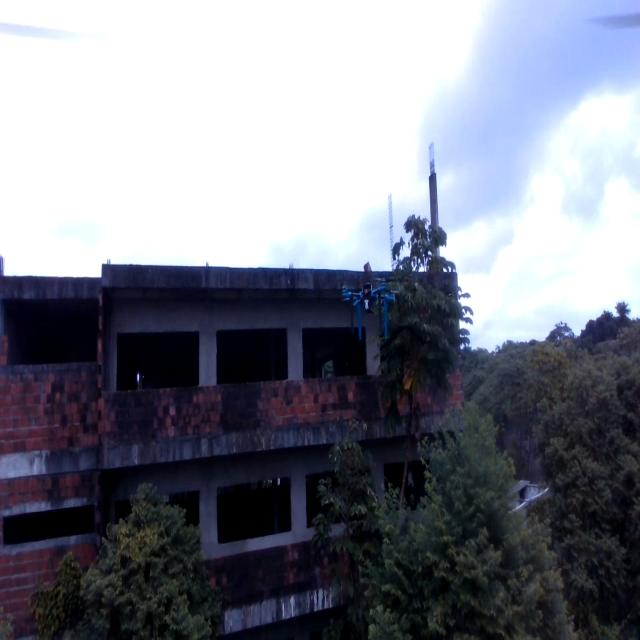-uav-: (335, 268, 409, 350)
